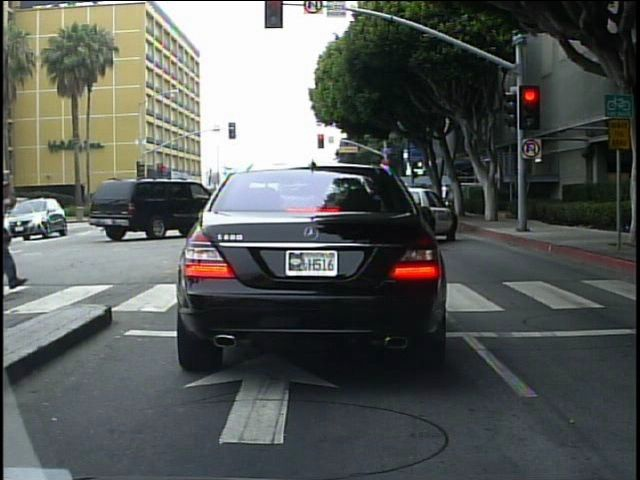person: (437, 179, 452, 215)
